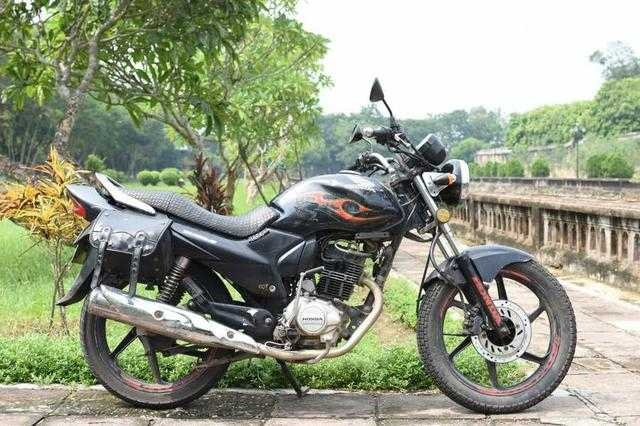motorbike: (54, 76, 576, 415)
